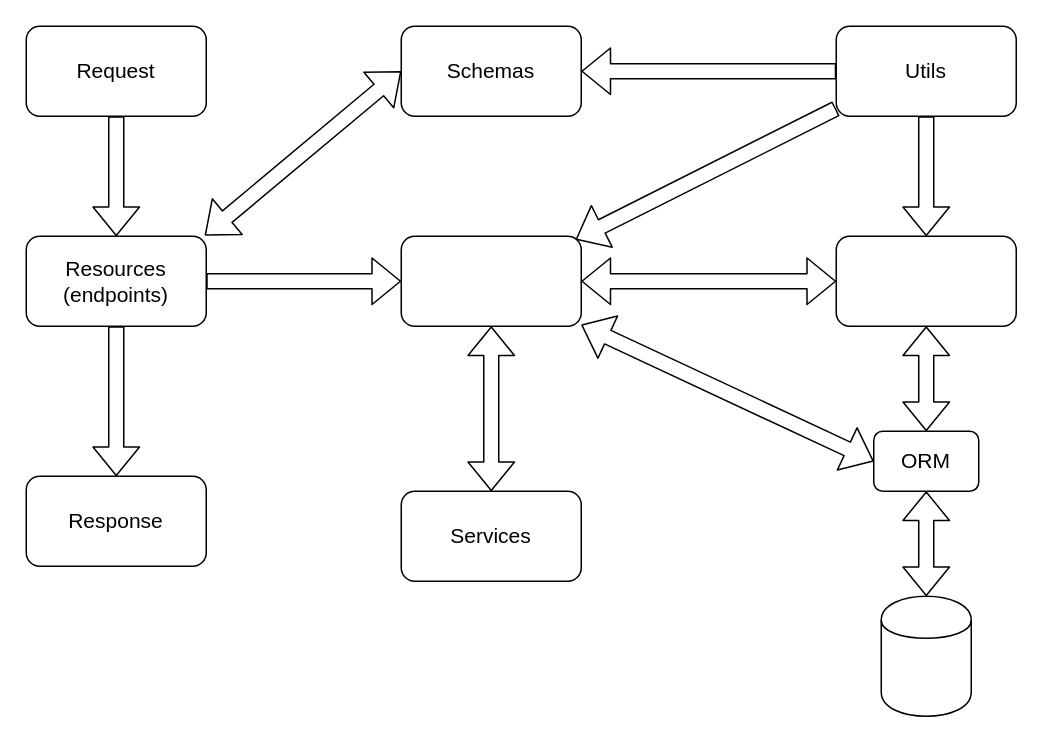
This 1043x743 diagram has some shape labels left out. The centre of each missing label's shape, as x and y in pixels:
DB: [925,655]
Managers (business logic): [490,280]
Models: [925,280]
